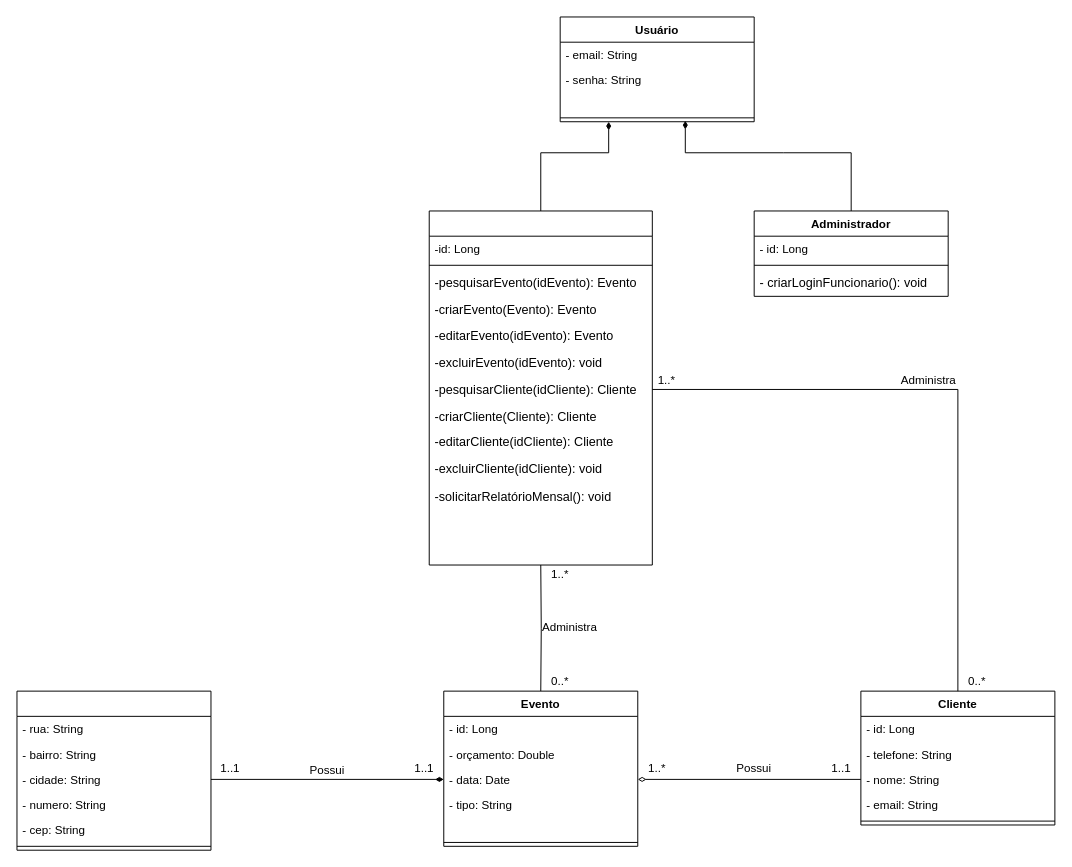
Some shapes in this 1072 by 867 pixel diagram are drawn without their labels. Each missing label, with the box of its shape:
Endereço: (16, 690, 211, 850)
Funcionário: (428, 210, 652, 565)
